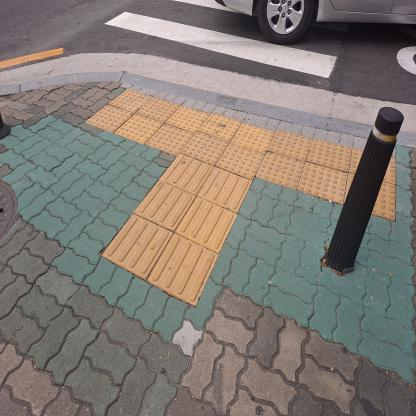podotacti: (81, 77, 399, 315)
